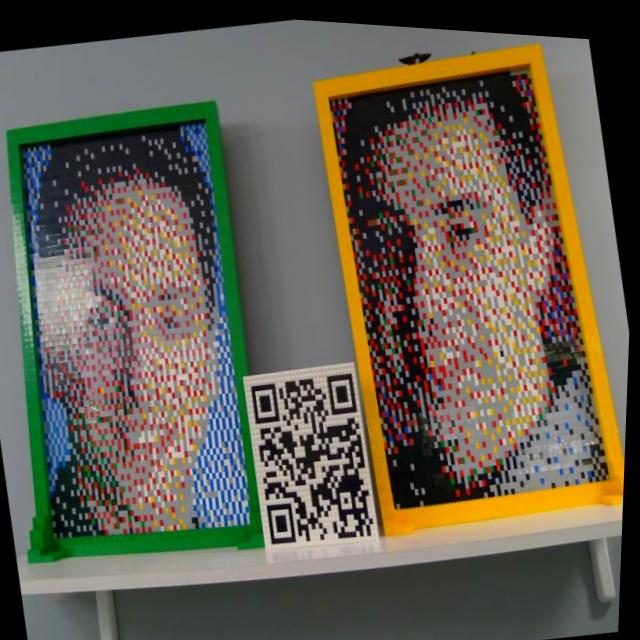qrcode: (249, 364, 384, 548)
